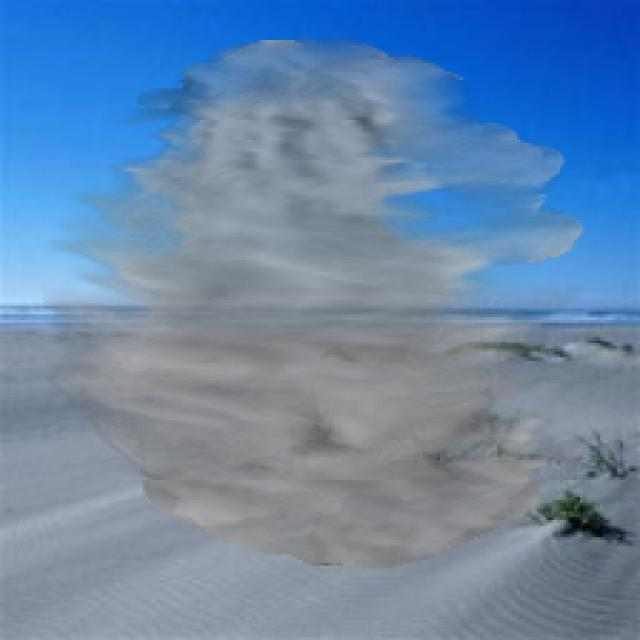smoke: (43, 37, 586, 569)
